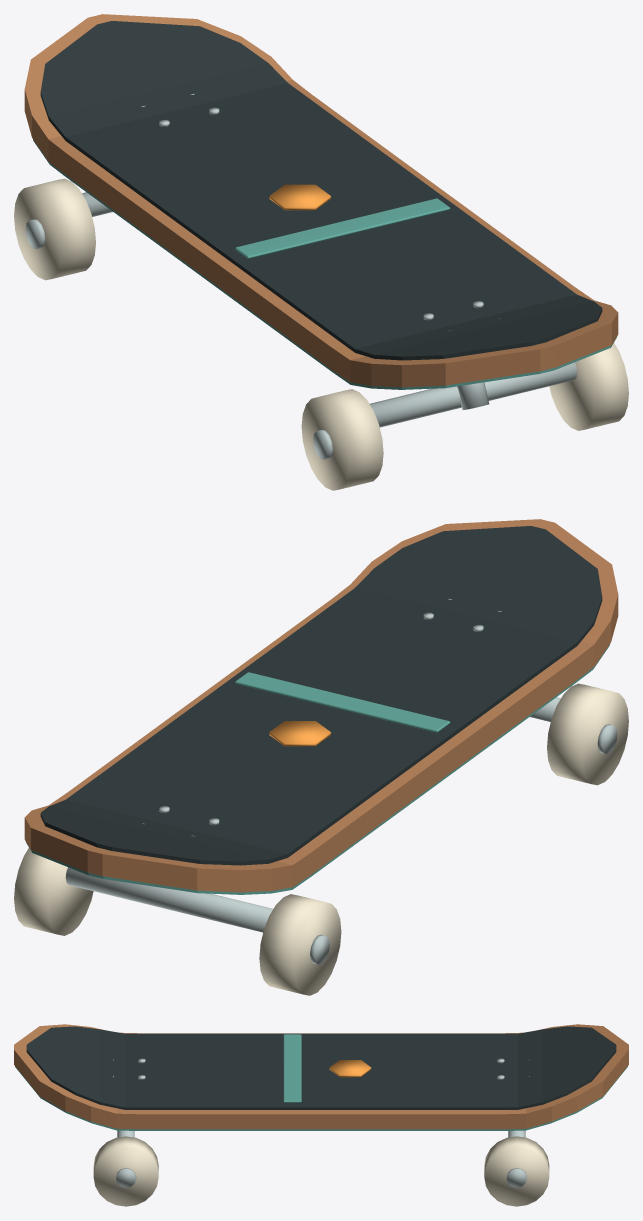
Rendered from skateboard.glb.
3 renders of one model, top to bottom at view 1: azimuth 30°, elevation 25°; view 2: azimuth 150°, elevation 25°; view 3: azimuth 270°, elevation 25°, orthographic. The views are drawn at different scales.
Visible parts, largest first — view 1: Skateboard_Rubber.001, Skateboard_Tan.001, FL_wheel, RL_wheel, Skateboard_Chrome.001, Skateboard_Mint.001, FR_wheel, Skateboard_Amber.001; view 2: Skateboard_Rubber.001, Skateboard_Tan.001, RL_wheel, FL_wheel, Skateboard_Chrome.001, Skateboard_Mint.001, RR_wheel, Skateboard_Amber.001; view 3: Skateboard_Rubber.001, Skateboard_Tan.001, FR_wheel, RR_wheel, Skateboard_Mint.001, Skateboard_Amber.001, Skateboard_Chrome.001, FR_bearing, RR_bearing.
Boxes of the visible parts, x1,y1,x2,y2 form: Skateboard_Rubber.001: (40,21,602,360); Skateboard_Tan.001: (24,14,618,387); FL_wheel: (301,389,383,490); RL_wheel: (14,178,95,280); Skateboard_Chrome.001: (82,93,577,427); Skateboard_Mint.001: (33,139,616,389); FR_wheel: (549,343,628,430); Skateboard_Amber.001: (269,184,330,210); Skateboard_Rubber.001: (40,526,602,865); Skateboard_Tan.001: (24,519,618,892); RL_wheel: (259,894,341,995); FL_wheel: (547,683,628,785); Skateboard_Chrome.001: (65,598,560,932); Skateboard_Mint.001: (26,644,609,894); RR_wheel: (14,848,93,935); Skateboard_Amber.001: (269,721,330,746); Skateboard_Rubber.001: (26,1026,616,1109); Skateboard_Tan.001: (14,1024,628,1129); FR_wheel: (93,1136,158,1206); RR_wheel: (484,1136,549,1206); Skateboard_Mint.001: (15,1034,627,1130); Skateboard_Amber.001: (329,1060,371,1077); Skateboard_Chrome.001: (113,1058,529,1137); FR_bearing: (116,1168,136,1187); RR_bearing: (506,1168,526,1187).
Bounding box in the file's own units: 0.314 × 0.1727 × 0.85.
